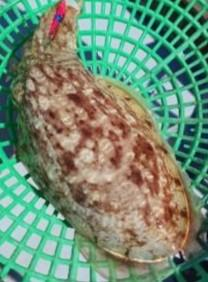Cephalopod: (7, 2, 200, 281)
